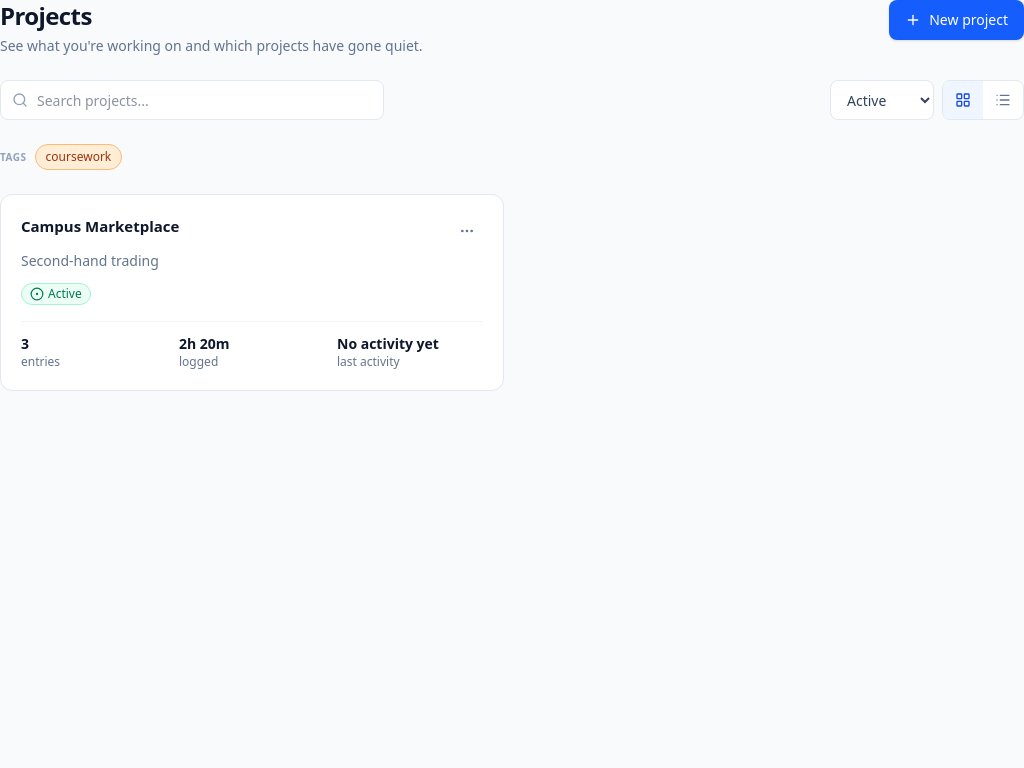
Scenario: ProjectsPage — creating and editing › opens an edit modal named after the project and loads its fields
Expected: the link "Campus Marketplace" is shown, [21,216,180,236]
Step 1. Click the button named "More actions for Campus Marketplace" → (467, 231), box [451,215,483,247]
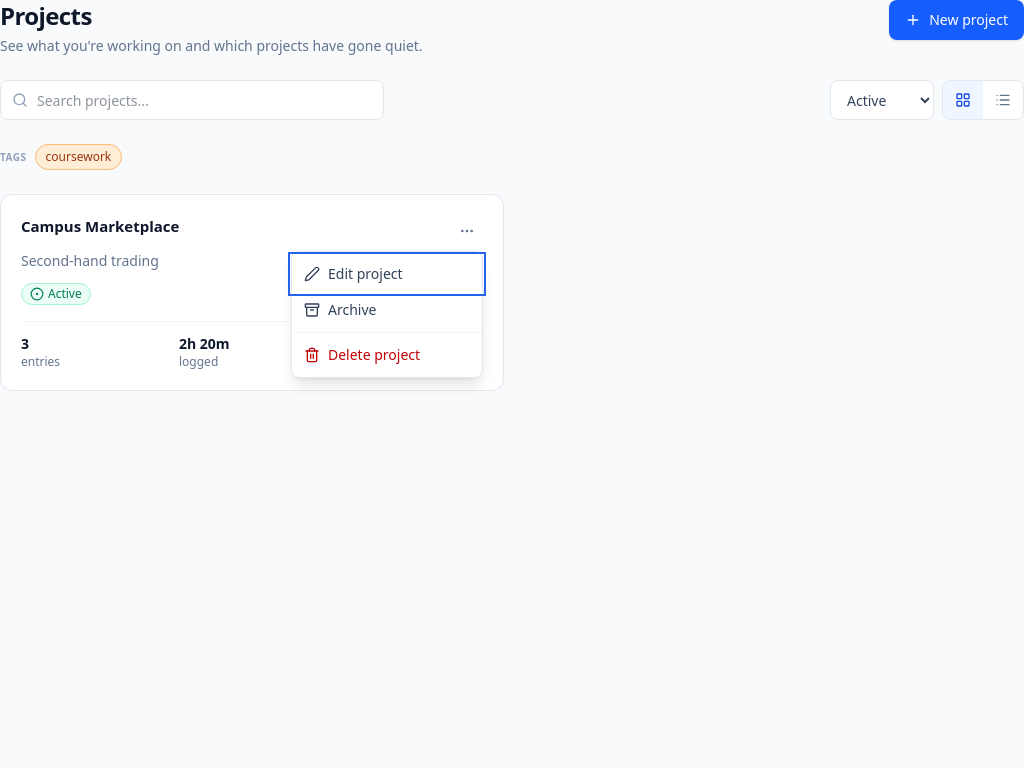
Step 2. Click the menu item "Edit project" → (387, 274), box [292,256,482,292]
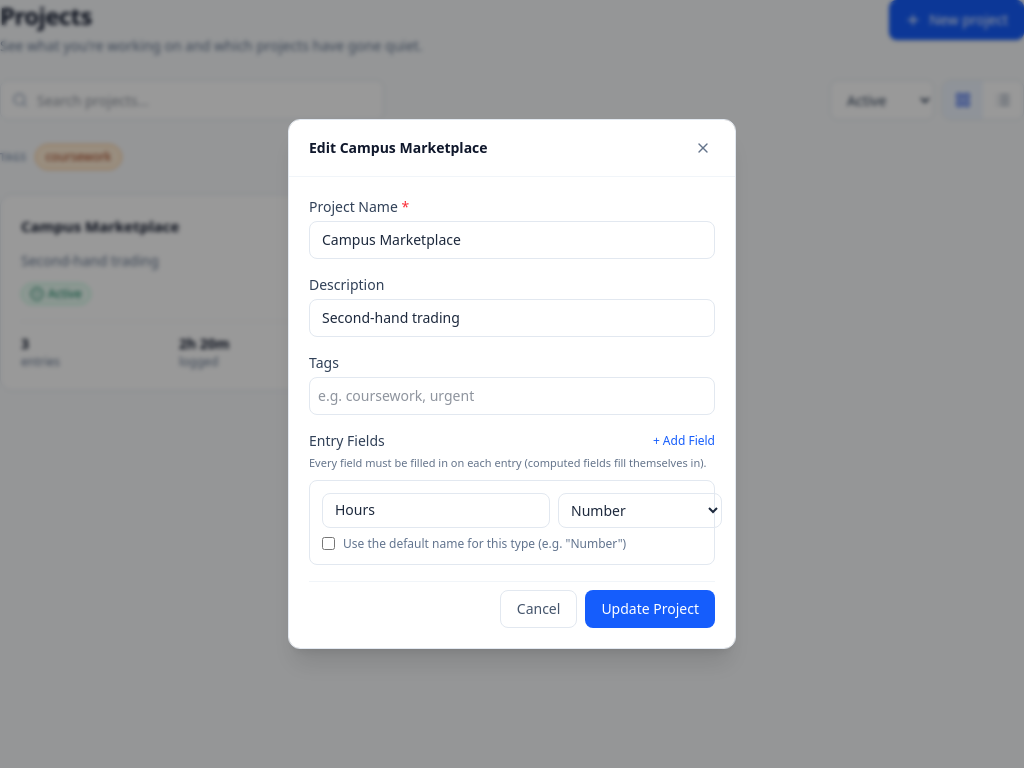
Expected: the heading "Edit Campus Marketplace" is shown, [309,138,488,158]
Expected: the field showing "Hours" below "Entry Fields" is shown, [322,493,550,528]
Expected: the button "Update Project" is shown, [585,590,715,628]
